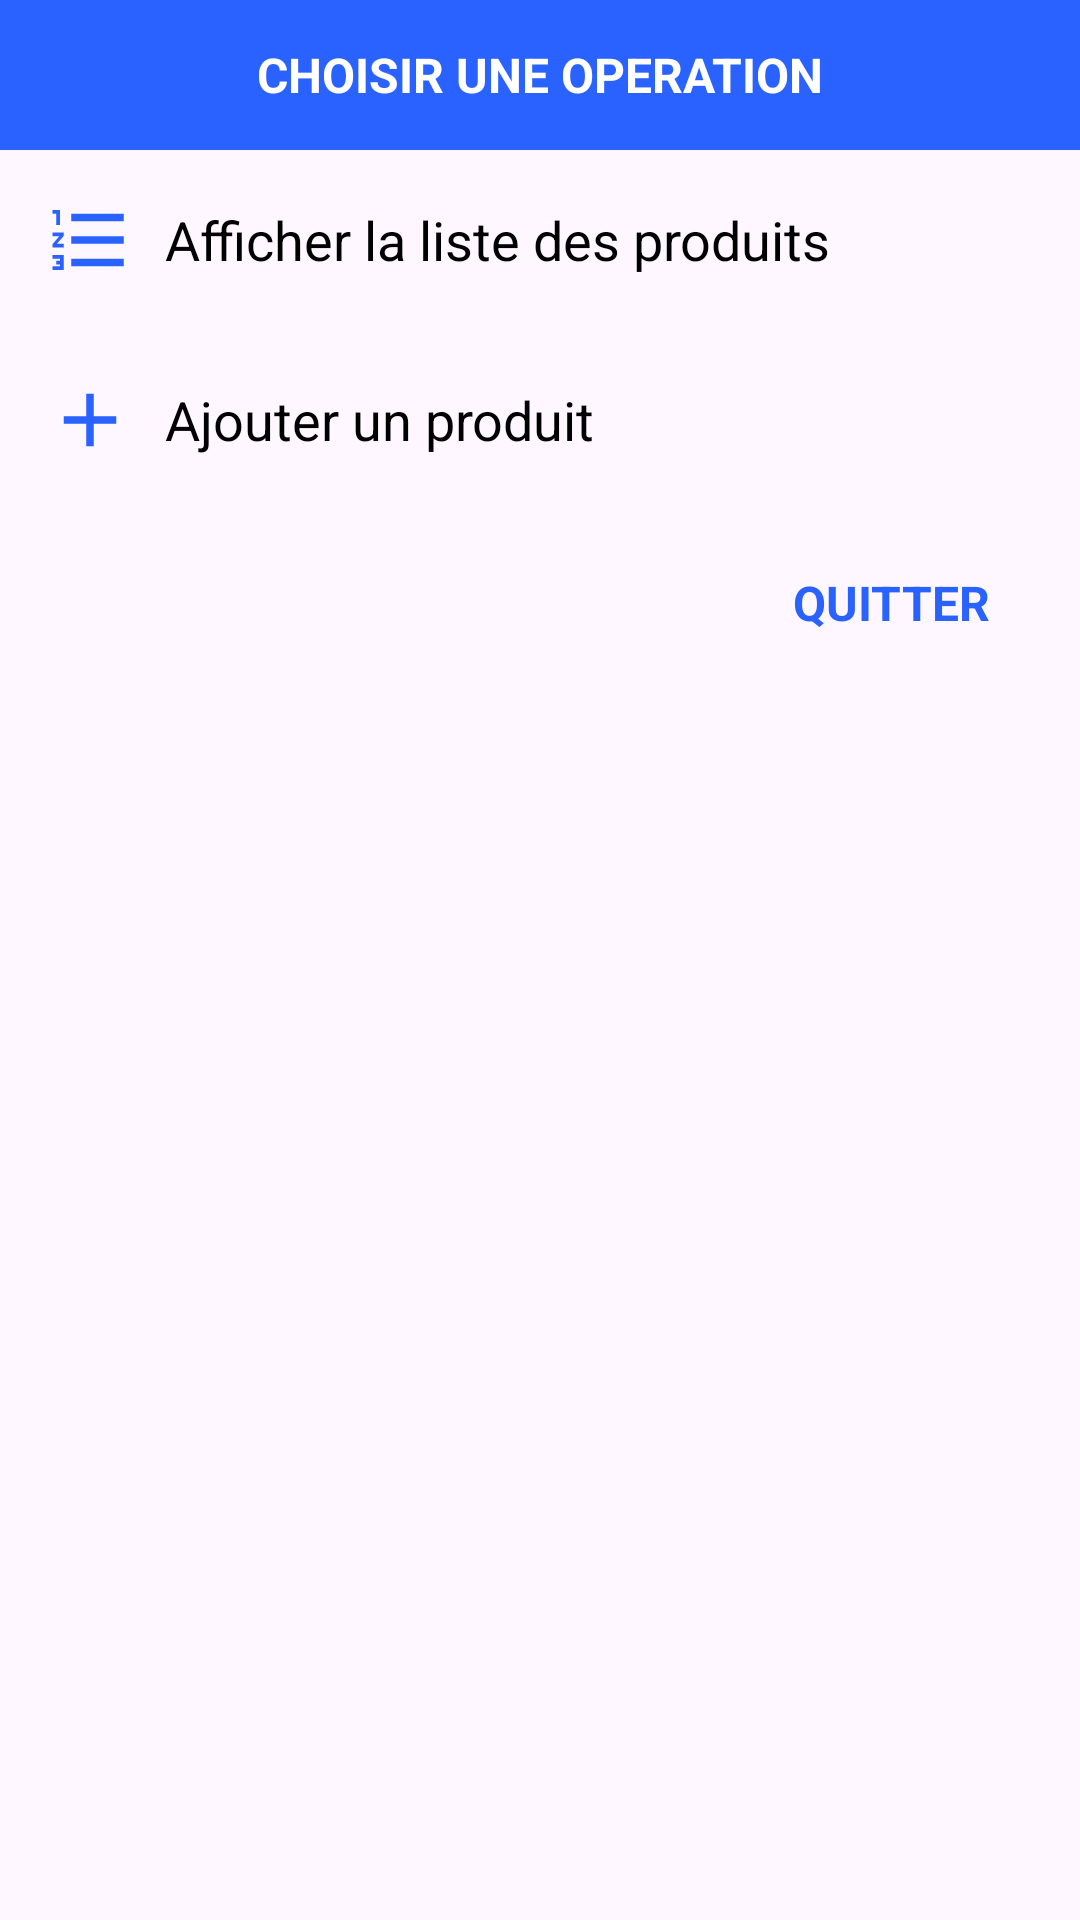

Named icons in this screenshot (1080w x 1920h) and their bounding boxes, (x1, y1, x2, y2):
add: (63, 393, 117, 447)
format list numbered: (52, 210, 124, 270)
